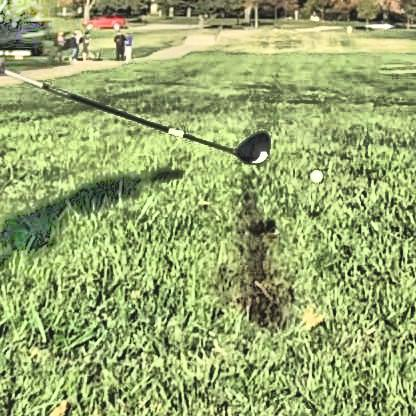golfball: (306, 164, 321, 179)
